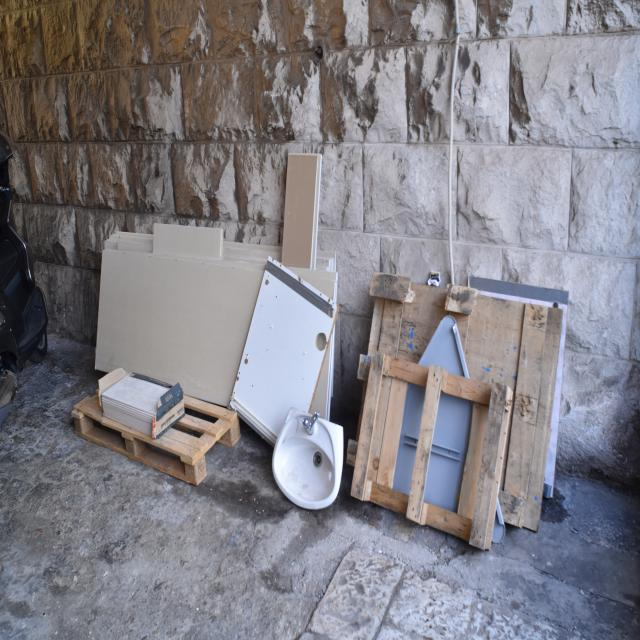entulho: (365, 271, 557, 532), (350, 334, 517, 555), (93, 226, 274, 406), (233, 260, 332, 447), (72, 385, 242, 487), (270, 408, 345, 509), (280, 152, 321, 272), (100, 373, 173, 435), (470, 276, 569, 306)
